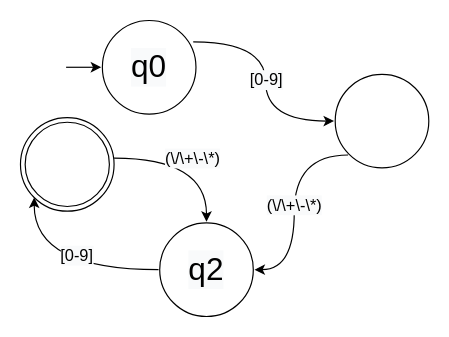
Some shapes in this 449 by 337 pixel diagram are drawn without their labels. Each missing label, with the centre of its shape:
"q1" belongs at (x=381, y=120).
"q3" belongs at (x=66, y=163).
